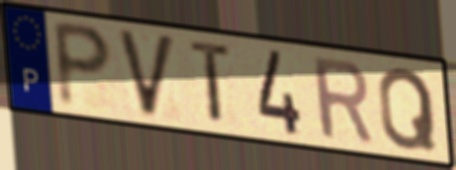4: (255, 47, 304, 138)
P: (50, 16, 116, 112)
Q: (376, 65, 440, 152)
R: (309, 54, 377, 147)
T: (188, 37, 236, 128)
V: (113, 26, 179, 121)
